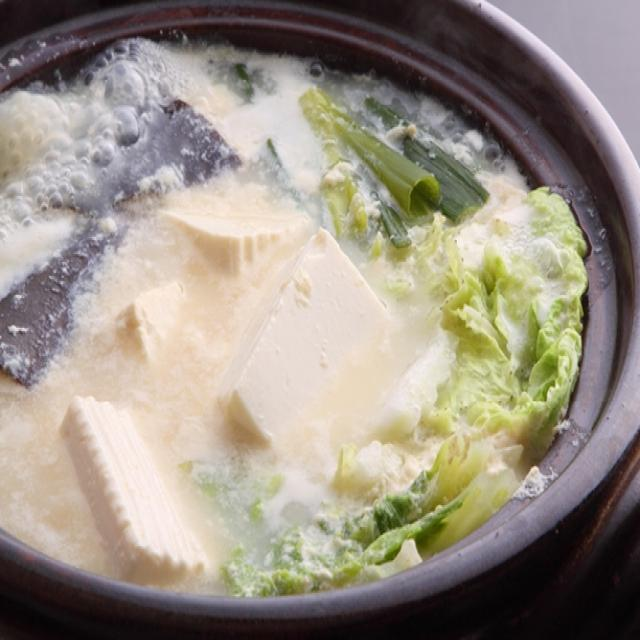豆腐料理: (18, 18, 605, 592)
